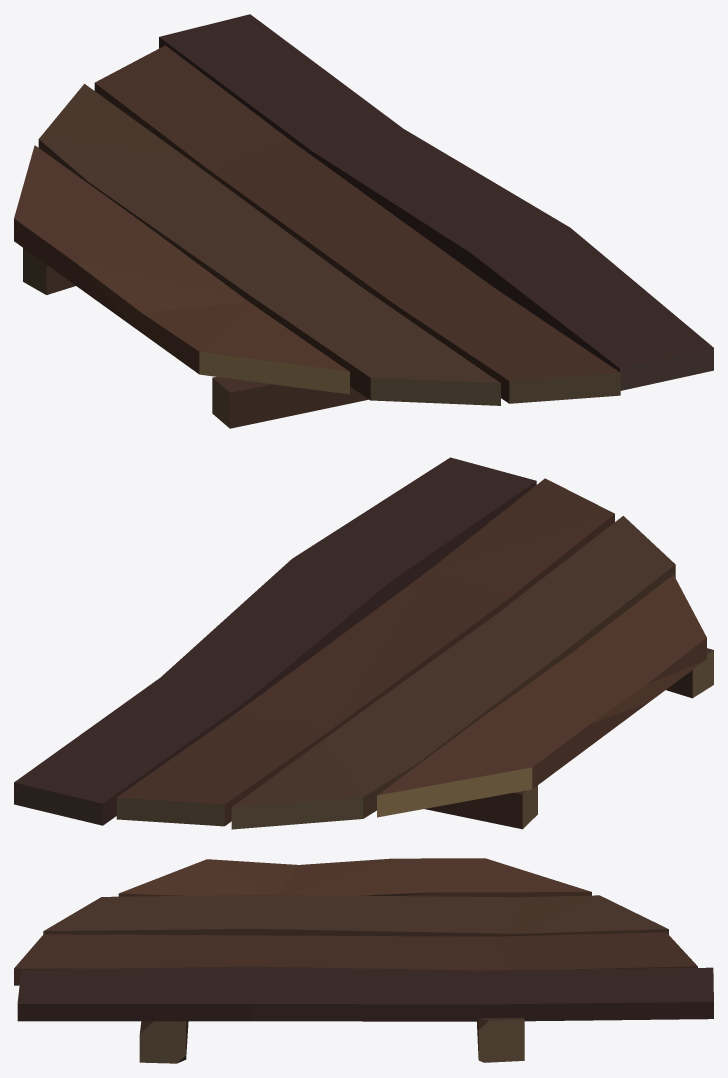
3 renders of one model, top to bottom at view 1: azimuth 30°, elevation 25°; view 2: azimuth 150°, elevation 25°; view 3: azimuth 270°, elevation 25°, orthographic. The views are drawn at different scales.
Parts seen in each view (by area): view 1: mff_tower_floor_half; view 2: mff_tower_floor_half; view 3: mff_tower_floor_half.
Boxes of the visible parts, bbox=[...] form: mff_tower_floor_half: bbox=[14, 14, 713, 428]; mff_tower_floor_half: bbox=[14, 457, 713, 829]; mff_tower_floor_half: bbox=[14, 858, 713, 1063].
Bounding box in the file's own units: 3.68 × 0.7033 × 7.28.
1 material, 1 textured.
